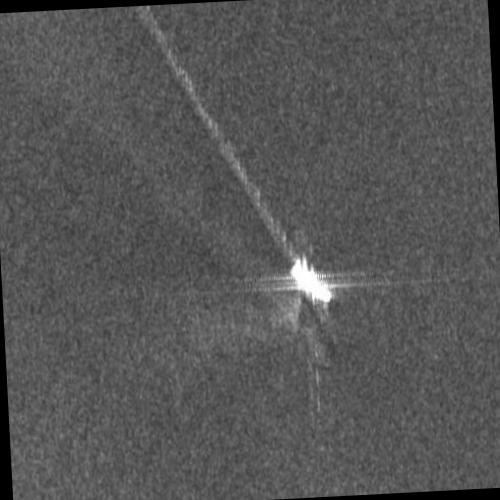ship: (289, 258, 333, 303)
